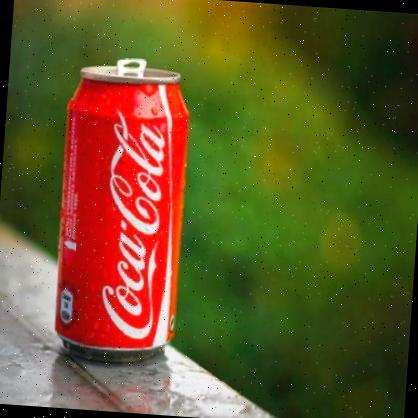can: (50, 54, 194, 362)
